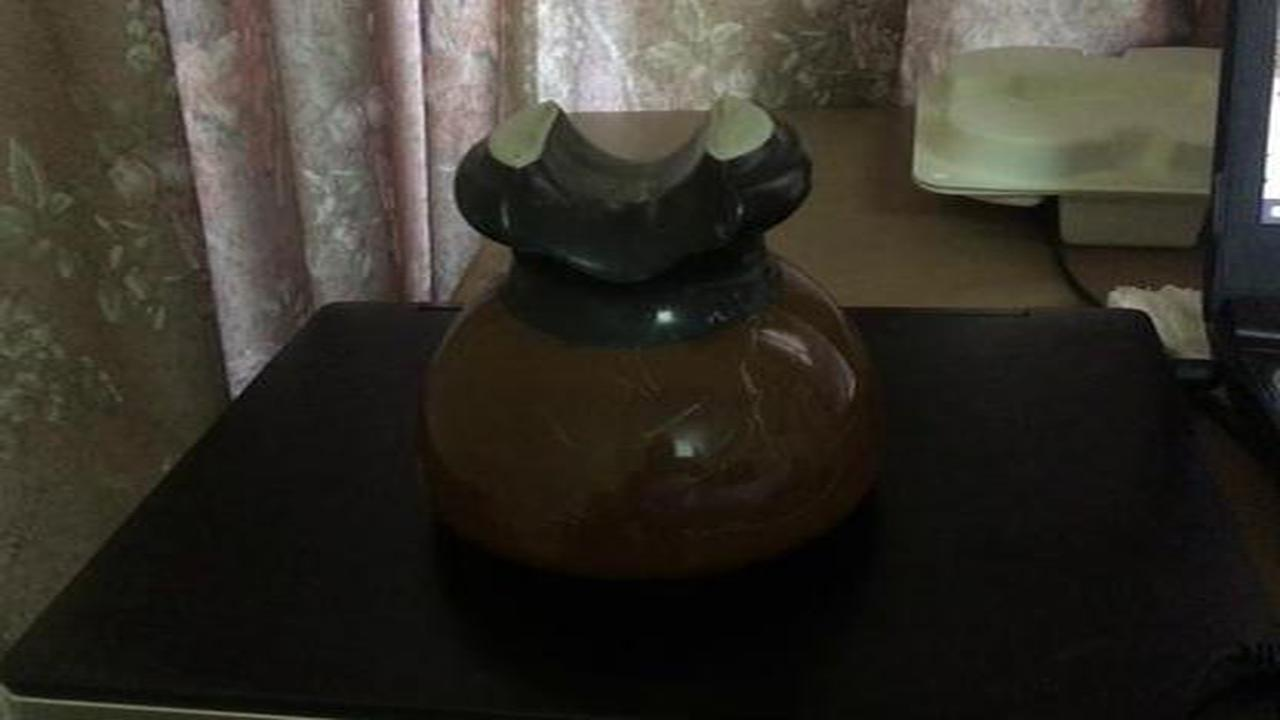insulator_pin: (394, 94, 933, 589)
